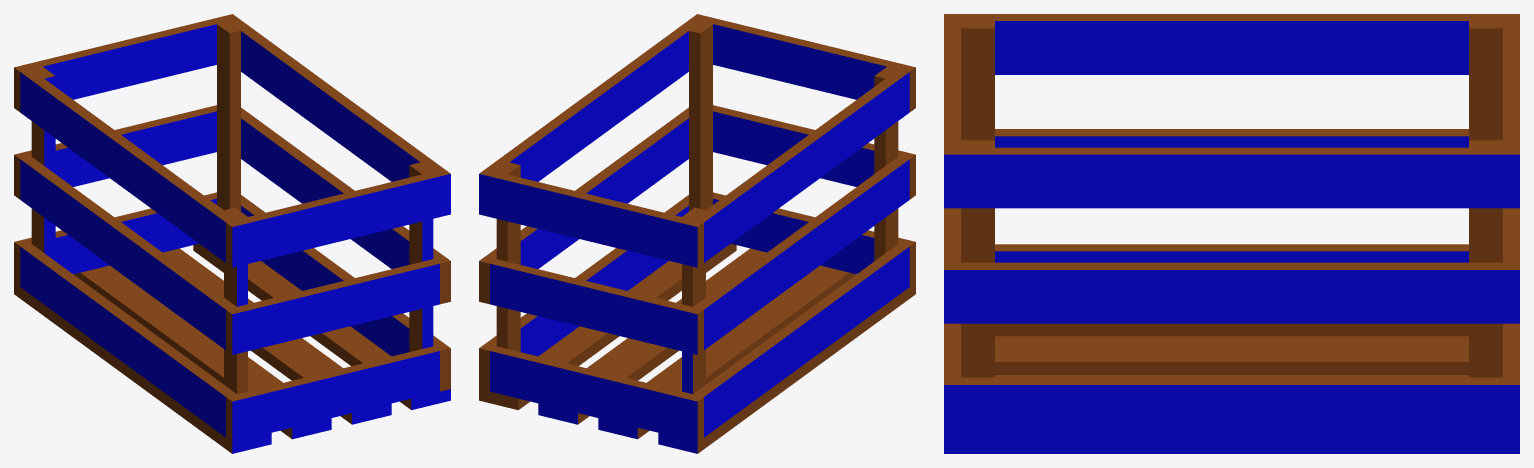
File: shrimpCrate.fbx
The picture shows the model from 3 angles, left to right: view 1: azimuth 30°, elevation 25°; view 2: azimuth 150°, elevation 25°; view 3: azimuth 270°, elevation 25°; orthographic projection. The views are drawn at different scales.
Parts seen in each view (by area): view 1: Model; view 2: Model; view 3: Model.
Boxes of the visible parts, bbox=[...] form: Model: bbox=[14, 14, 450, 453]; Model: bbox=[479, 14, 915, 453]; Model: bbox=[944, 14, 1519, 453].
Size of the model in its own units: 0.3747 by 0.3715 by 0.6477.
